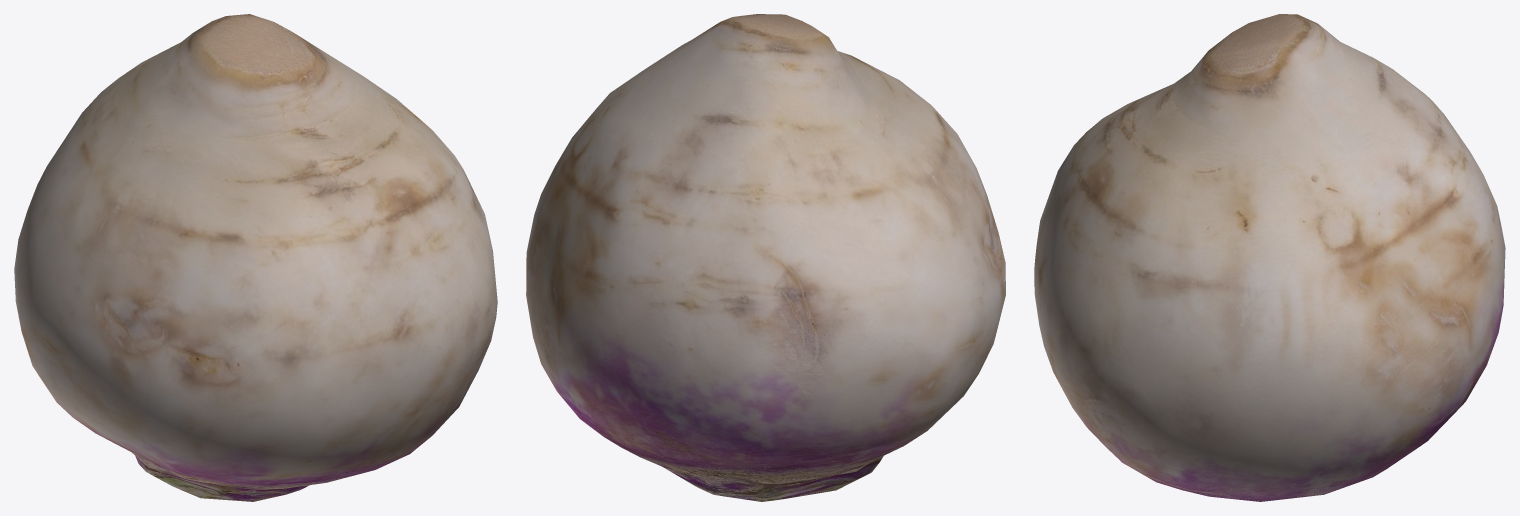
The model's file is 77_turnip.glb.
The picture shows the model from 3 angles, left to right: view 1: azimuth 30°, elevation 25°; view 2: azimuth 150°, elevation 25°; view 3: azimuth 270°, elevation 25°; orthographic projection. The views are drawn at different scales.
Parts seen in each view (by area): view 1: 77_turnip; view 2: 77_turnip; view 3: 77_turnip.
Boxes of the visible parts, <box> form: 77_turnip: <box>14,14,497,501</box>; 77_turnip: <box>526,14,1005,501</box>; 77_turnip: <box>1034,14,1505,501</box>.
Bounding box in the file's own units: 0.9507 × 0.9929 × 0.9401.
Materials: 1 (1 with a texture image).
